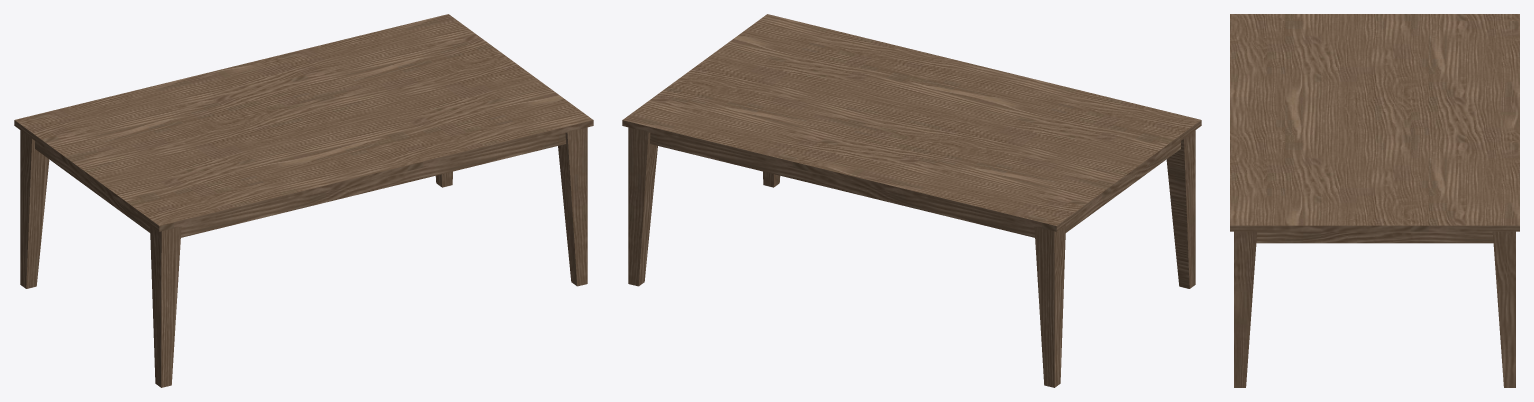
File: Table_13-col.glb
The picture shows the model from 3 angles, left to right: view 1: azimuth 30°, elevation 25°; view 2: azimuth 150°, elevation 25°; view 3: azimuth 270°, elevation 25°; orthographic projection.
Parts seen in each view (by area): view 1: Table_13-col; view 2: Table_13-col; view 3: Table_13-col.
Boxes of the visible parts, <box> form: Table_13-col: <box>14,14,593,387</box>; Table_13-col: <box>622,14,1201,387</box>; Table_13-col: <box>1230,14,1519,387</box>.
Bounding box in the file's own units: 2.26 × 0.8168 × 1.31.
Materials: 1 (1 with a texture image).
